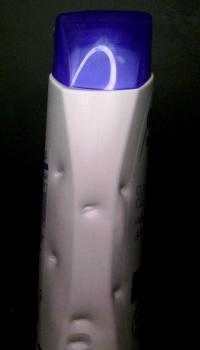dent_unacceptable: (64, 313, 101, 350), (102, 275, 128, 303), (51, 156, 72, 189), (82, 195, 104, 223), (43, 246, 63, 276), (112, 179, 133, 199)
